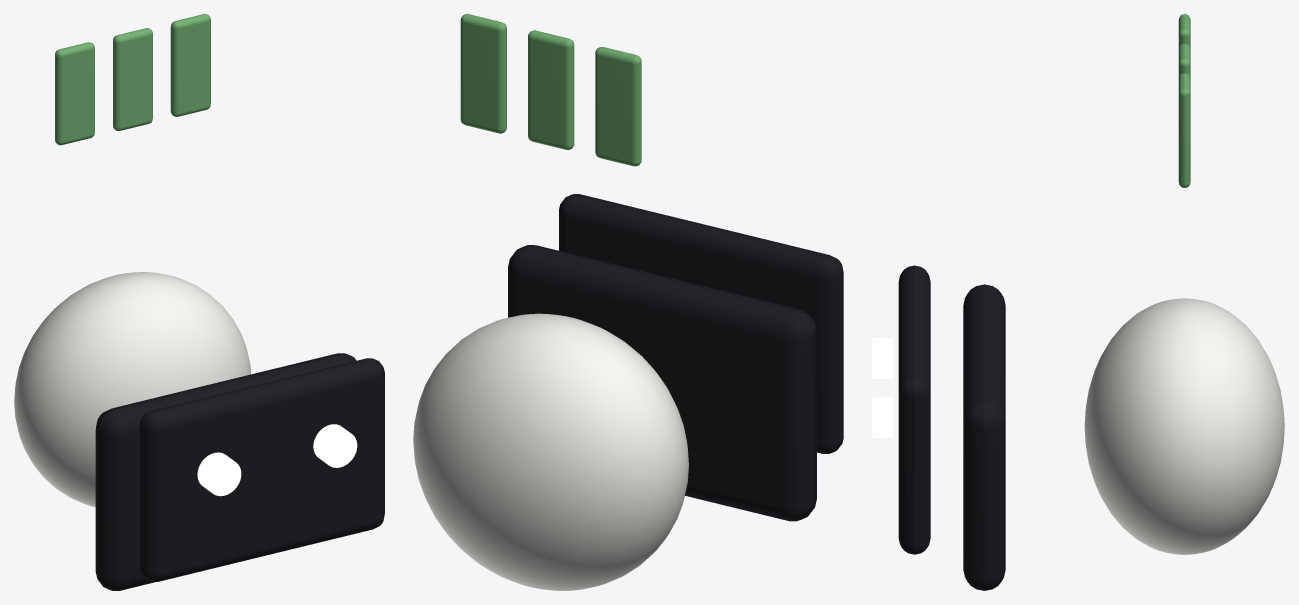
The model's file is p2s_video_so_ong_ivy_planter.proxy.glb.
The picture shows the model from 3 angles, left to right: view 1: azimuth 30°, elevation 25°; view 2: azimuth 150°, elevation 25°; view 3: azimuth 270°, elevation 25°; orthographic projection. The views are drawn at different scales.
Visible parts, largest first — view 1: repair_ivy_face, repair_ivy_white_pot, repair_ivy_screen_recess, repair_leaf.002, repair_leaf, repair_leaf.001, repair_eye_l, repair_eye_r; view 2: repair_ivy_white_pot, repair_ivy_screen_recess, repair_ivy_face, repair_leaf, repair_leaf.002, repair_leaf.001; view 3: repair_ivy_white_pot, repair_ivy_screen_recess, repair_ivy_face, repair_leaf.002, repair_eye_l, repair_eye_r.
Part boxes in pixels (x1=…): repair_ivy_face: x1=139, y1=358, x2=384, y2=581; repair_ivy_white_pot: x1=14, y1=272, x2=250, y2=507; repair_ivy_screen_recess: x1=95, y1=353, x2=356, y2=590; repair_leaf.002: x1=170, y1=14, x2=210, y2=116; repair_leaf: x1=55, y1=42, x2=94, y2=145; repair_leaf.001: x1=113, y1=28, x2=152, y2=130; repair_eye_l: x1=197, y1=452, x2=241, y2=496; repair_eye_r: x1=313, y1=424, x2=357, y2=467; repair_ivy_white_pot: x1=413, y1=313, x2=688, y2=590; repair_ivy_screen_recess: x1=508, y1=245, x2=816, y2=521; repair_ivy_face: x1=559, y1=194, x2=843, y2=453; repair_leaf: x1=595, y1=47, x2=641, y2=166; repair_leaf.002: x1=460, y1=14, x2=506, y2=133; repair_leaf.001: x1=528, y1=30, x2=574, y2=149; repair_ivy_white_pot: x1=1084, y1=298, x2=1284, y2=554; repair_ivy_screen_recess: x1=963, y1=284, x2=1005, y2=590; repair_ivy_face: x1=898, y1=265, x2=930, y2=554; repair_leaf.002: x1=1178, y1=73, x2=1190, y2=187; repair_eye_l: x1=872, y1=338, x2=893, y2=378; repair_eye_r: x1=872, y1=397, x2=893, y2=437.
Bounding box in the file's own units: 0.0594 × 0.1023 × 0.0779.
